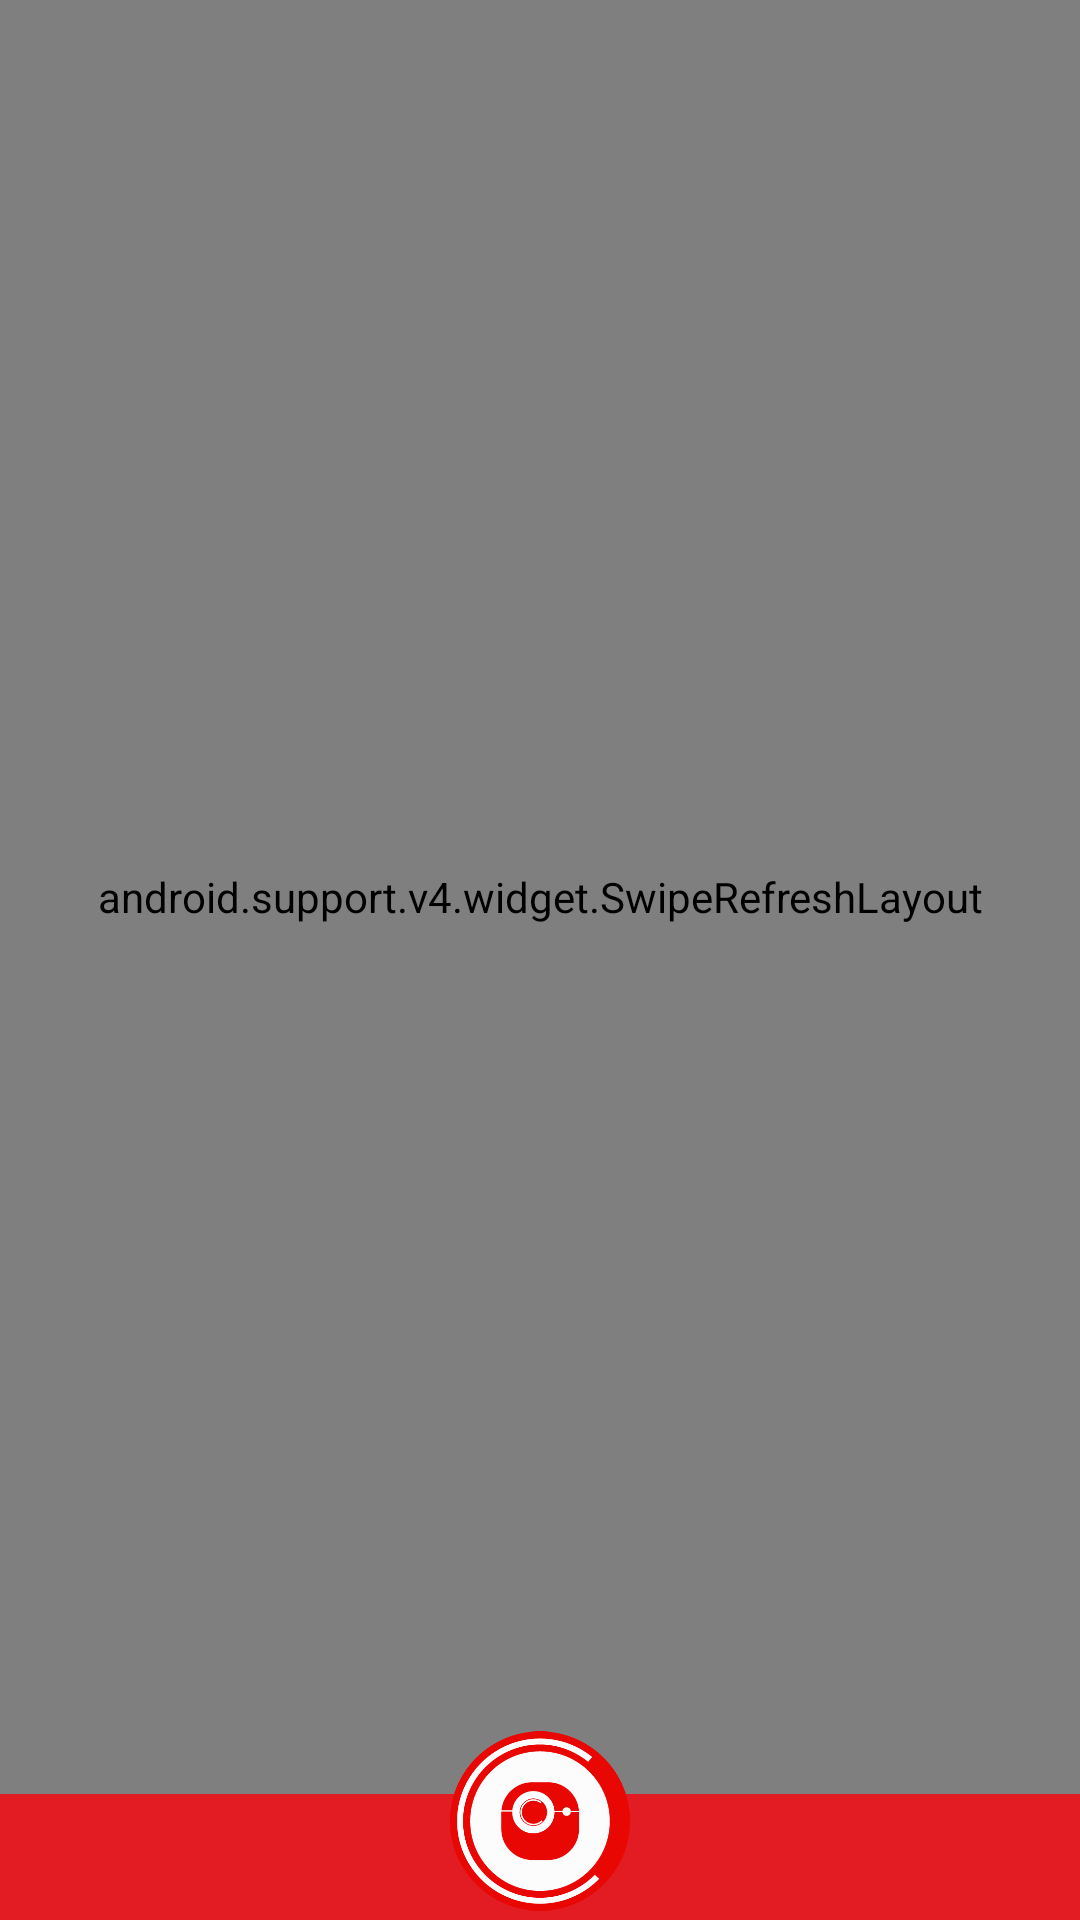

Icons on this 1080*1920 Android screen, each with the point to tap as [x,y]:
camera round: [540,1821]
